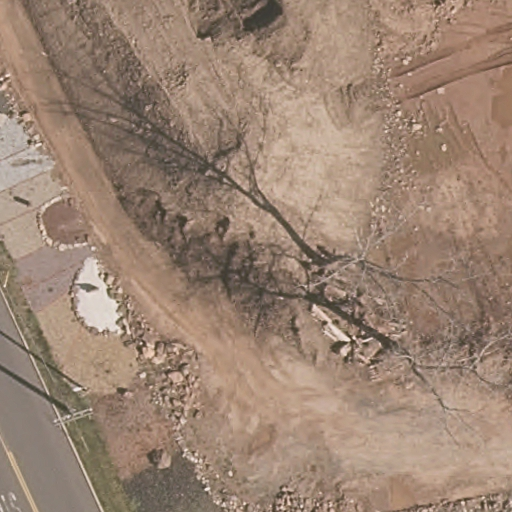DT: (48, 395, 99, 433)
